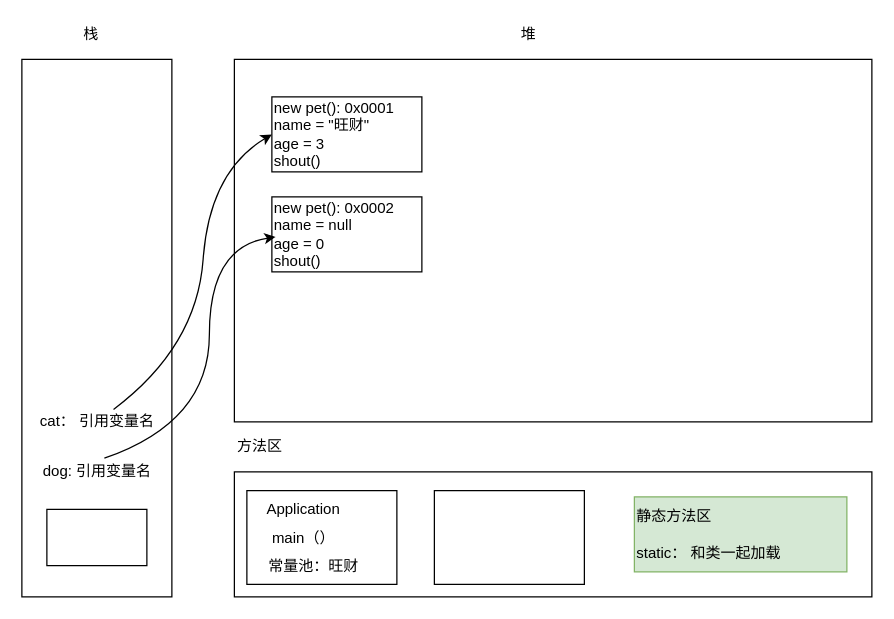
This 894x619 diagram has some shape labels left out. The box of each missing label's shape, as (x1, y1, x2, y2) in pixels:
mian(): (46, 508, 147, 566)
Pet name age shout(): (433, 489, 584, 584)
